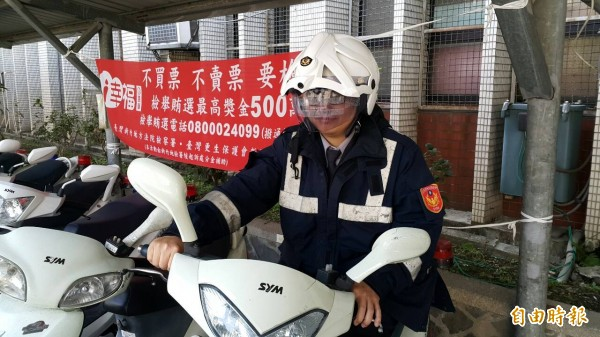helmet: (284, 39, 387, 108)
